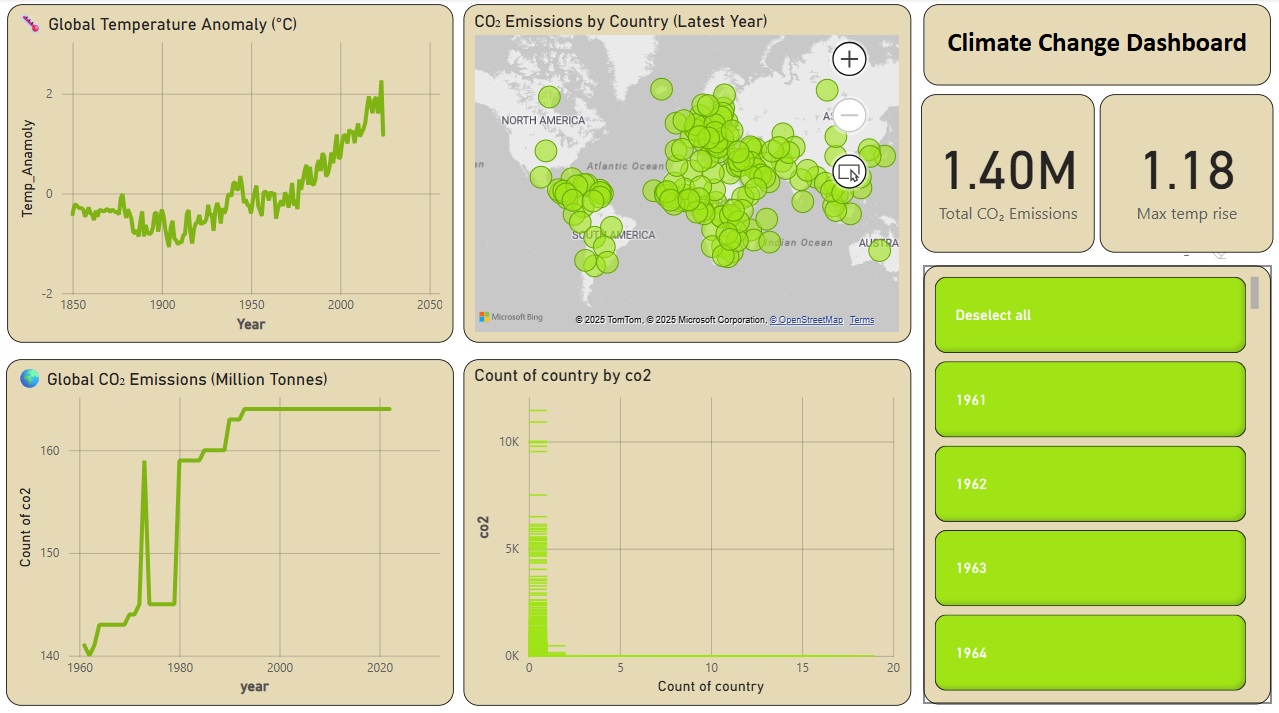

The dashboard page shown, as its layout file describes it:
{"tool":"powerbi","page":{"name":"Page 1","canvas":[1280,720],"ordinal":0},"visuals":[{"type":"lineChart","title":"🌡️ Global Temperature Anomaly (°C)","fields":{"Category":["Temp_Data.Year"],"Y":["Sum(Temp_Data.Temp_Anamoly)"]},"box":[11.2,6.2,444.1,337.1],"z":0},{"type":"lineChart","title":"🌍 Global CO₂ Emissions (Million Tonnes)","fields":{"Category":["Co2_Data.year"],"Y":["CountNonNull(Co2_Data.co2)"]},"box":[10,359.5,445.3,344.6],"z":1000},{"type":"map","title":"CO₂ Emissions by Country (Latest Year)","fields":{"Category":["Co2_Data.country"],"Size":["Max(Co2_Data.year)"]},"box":[465.2,6.2,445.3,337.1],"z":2000},{"type":"clusteredBarChart","fields":{"Y":["CountNonNull(Co2_Data.country)"],"Category":["Co2_Data.co2"]},"box":[465.2,359.5,445.3,344.6],"z":3000},{"type":"advancedSlicerVisual","title":"Year","fields":{"Values":["Co2_Data.year"]},"box":[923,374.4,345.8,328.4],"z":4000},{"type":"textbox","box":[923,6.2,345.8,80.9],"z":4001},{"type":"card","box":[923,104.5,201.5,202.8],"z":4002}]}

Visuals, with their boxes in screenshot pixels (x1, y1, x2, y2), scaled from the page's 1280x720 canvas onto the 1279x713 screenshot:
"🌡️ Global Temperature Anomaly (°C)" lineChart: 11/6/455/340
"🌍 Global CO₂ Emissions (Million Tonnes)" lineChart: 10/356/455/697
"CO₂ Emissions by Country (Latest Year)" map: 465/6/910/340
clusteredBarChart - CountNonNull(Co2_Data.country) x Co2_Data.co2: 465/356/910/697
"Year" advancedSlicerVisual: 922/371/1268/696
textbox: 922/6/1268/86
card: 922/103/1124/304
